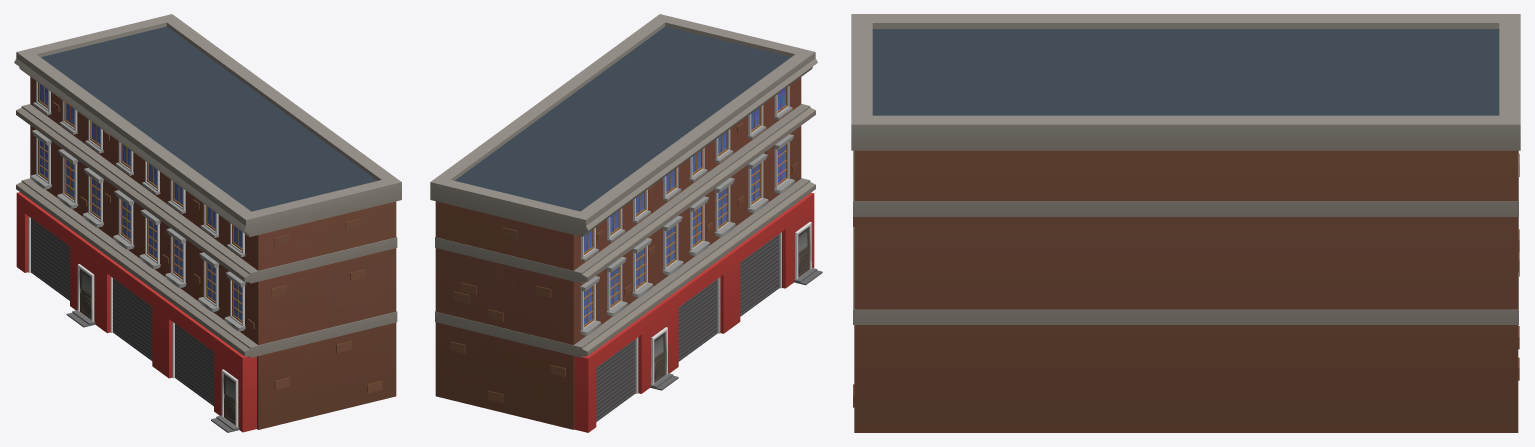
Rendered from Building_20_2_I.fbx.
The picture shows the model from 3 angles, left to right: view 1: azimuth 30°, elevation 25°; view 2: azimuth 150°, elevation 25°; view 3: azimuth 270°, elevation 25°; orthographic projection. The views are drawn at different scales.
Visible parts, largest first — view 1: Building_20_2_I; view 2: Building_20_2_I; view 3: Building_20_2_I.
Part boxes in pixels (box(x1,y1,x2,y2)): Building_20_2_I: box(14, 14, 401, 432); Building_20_2_I: box(430, 14, 822, 432); Building_20_2_I: box(851, 14, 1520, 432).
Size of the model in its own units: 774 by 938 by 1827.
